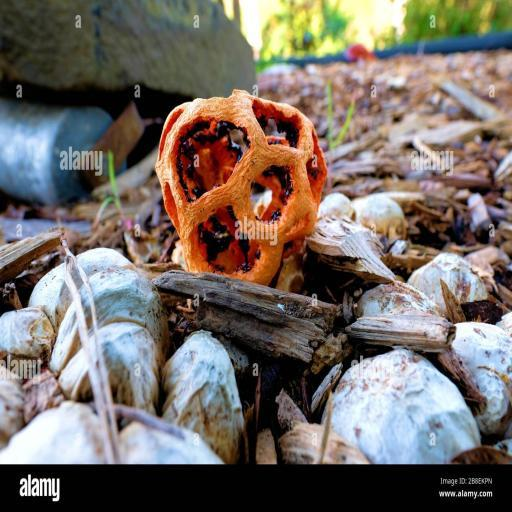mushroom: (157, 92, 326, 292)
